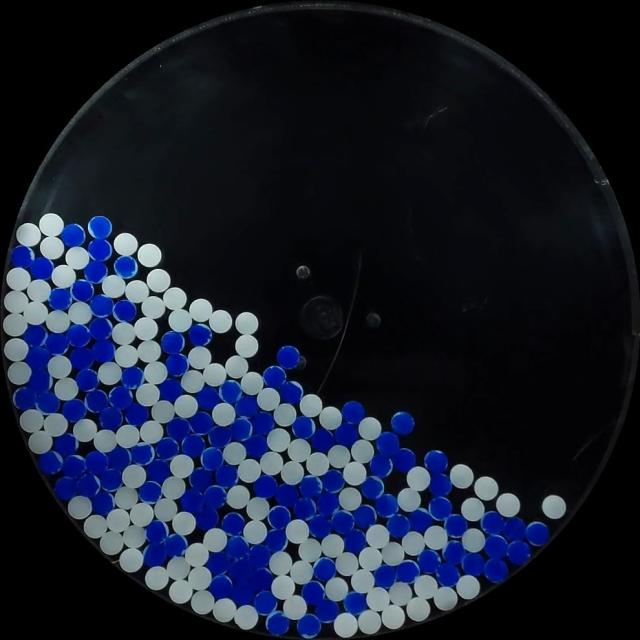pmmma-blanca: (454, 574, 480, 600), (23, 300, 49, 326), (118, 547, 144, 573), (257, 451, 284, 476), (236, 458, 262, 483), (184, 542, 210, 567), (357, 546, 382, 572), (6, 266, 31, 292), (495, 492, 521, 517), (304, 452, 329, 478), (423, 524, 448, 549), (413, 574, 438, 599), (449, 463, 474, 488), (212, 597, 237, 622), (146, 268, 171, 293), (406, 596, 431, 621), (168, 308, 193, 333), (267, 428, 292, 453), (402, 531, 427, 556), (202, 527, 228, 551), (168, 454, 194, 478), (270, 574, 296, 598), (142, 361, 168, 385), (432, 586, 458, 610), (180, 369, 206, 393), (273, 403, 299, 427), (337, 487, 363, 511), (298, 538, 324, 562), (380, 542, 406, 566), (365, 524, 390, 548), (173, 394, 198, 418), (122, 464, 147, 488), (139, 420, 164, 444), (129, 502, 154, 526), (137, 244, 162, 268), (333, 612, 357, 637), (285, 519, 309, 544), (243, 519, 267, 544), (51, 264, 76, 288), (115, 424, 140, 448), (190, 589, 214, 614), (141, 295, 166, 319), (7, 361, 32, 385), (282, 595, 307, 619), (3, 312, 28, 336), (26, 278, 51, 302), (16, 222, 41, 246), (342, 460, 367, 484), (462, 527, 486, 552), (473, 476, 498, 500), (381, 604, 405, 629), (162, 287, 187, 311), (111, 322, 136, 346), (68, 495, 92, 520), (82, 514, 107, 538), (106, 508, 131, 532), (99, 531, 124, 555), (168, 555, 192, 580), (162, 476, 187, 500), (280, 460, 305, 484), (320, 533, 344, 558), (461, 498, 486, 522), (542, 494, 566, 519), (18, 409, 44, 432), (45, 310, 71, 333), (222, 442, 248, 465), (286, 438, 310, 462), (172, 511, 196, 535), (4, 338, 28, 362), (73, 418, 97, 442), (224, 354, 248, 378), (406, 466, 430, 490), (168, 580, 192, 604), (212, 402, 236, 426), (357, 610, 381, 634), (234, 604, 258, 628), (324, 576, 348, 600), (226, 484, 250, 508), (388, 582, 412, 606), (235, 334, 259, 358), (209, 309, 233, 333), (188, 298, 212, 322), (114, 344, 138, 368), (188, 566, 212, 590), (154, 498, 178, 522), (290, 560, 314, 584), (135, 383, 160, 406), (136, 340, 161, 363), (40, 236, 65, 259), (144, 567, 169, 590), (202, 363, 227, 386), (43, 413, 68, 436), (124, 280, 149, 303), (39, 213, 64, 236), (48, 356, 72, 379), (188, 346, 212, 369), (28, 431, 52, 454), (93, 429, 117, 452), (350, 440, 374, 463), (133, 316, 157, 339), (234, 312, 258, 335), (299, 394, 323, 417), (114, 233, 138, 256), (366, 588, 390, 611), (65, 246, 89, 269), (397, 488, 421, 511), (319, 405, 342, 429), (357, 416, 381, 439), (351, 568, 374, 592), (114, 487, 139, 509), (121, 525, 146, 547), (329, 445, 351, 470), (102, 275, 125, 298), (4, 291, 27, 314), (247, 497, 270, 520), (269, 552, 292, 575), (54, 378, 78, 400), (241, 372, 263, 396), (258, 387, 280, 411), (98, 362, 121, 384), (68, 302, 91, 324), (152, 399, 174, 422), (336, 553, 360, 574)
